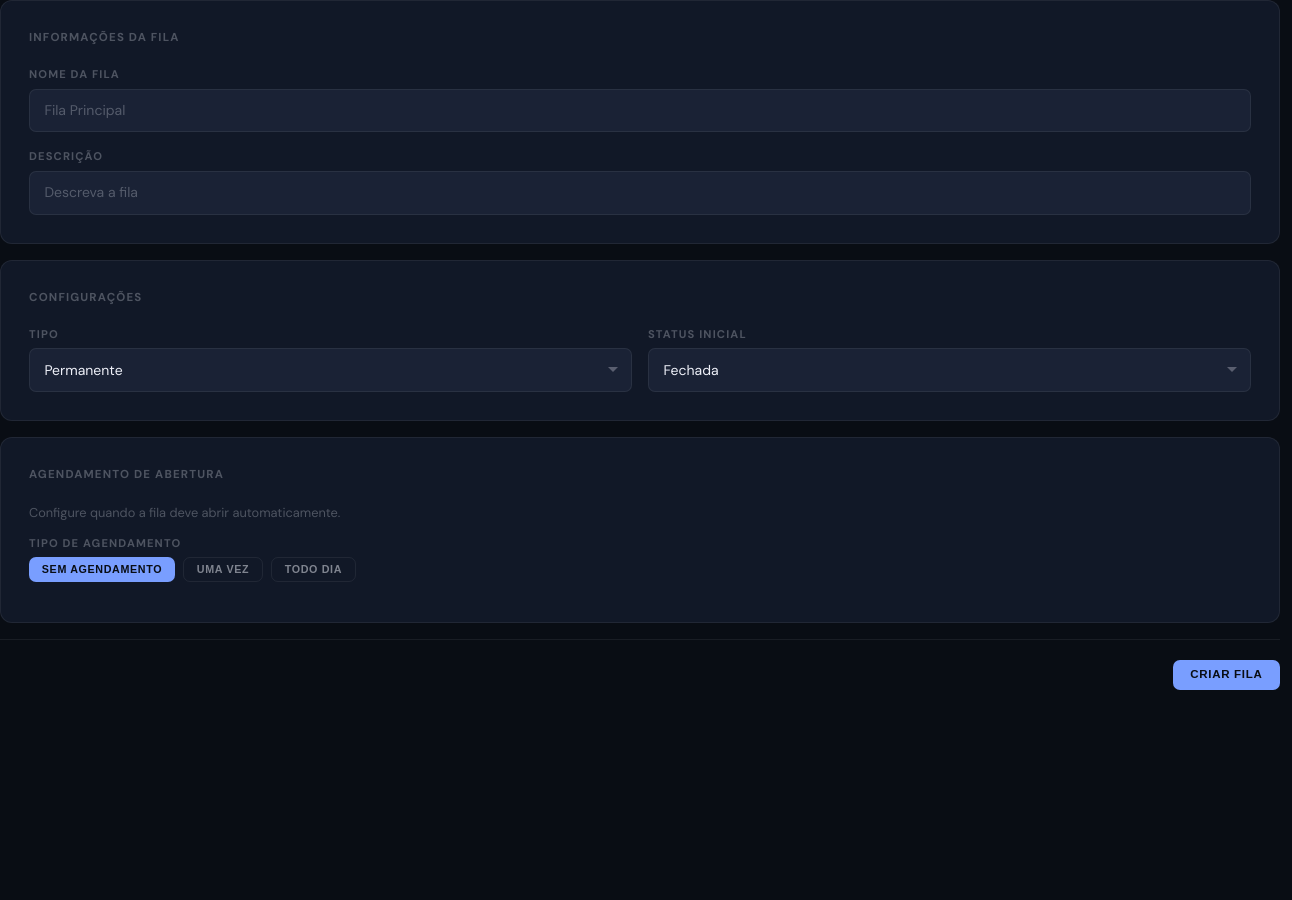
Scenario: CreateQueueForm › shows error message when createQueueSchedule fails
Click the button "Todo dia" at (314, 570), box [271,557,356,582]
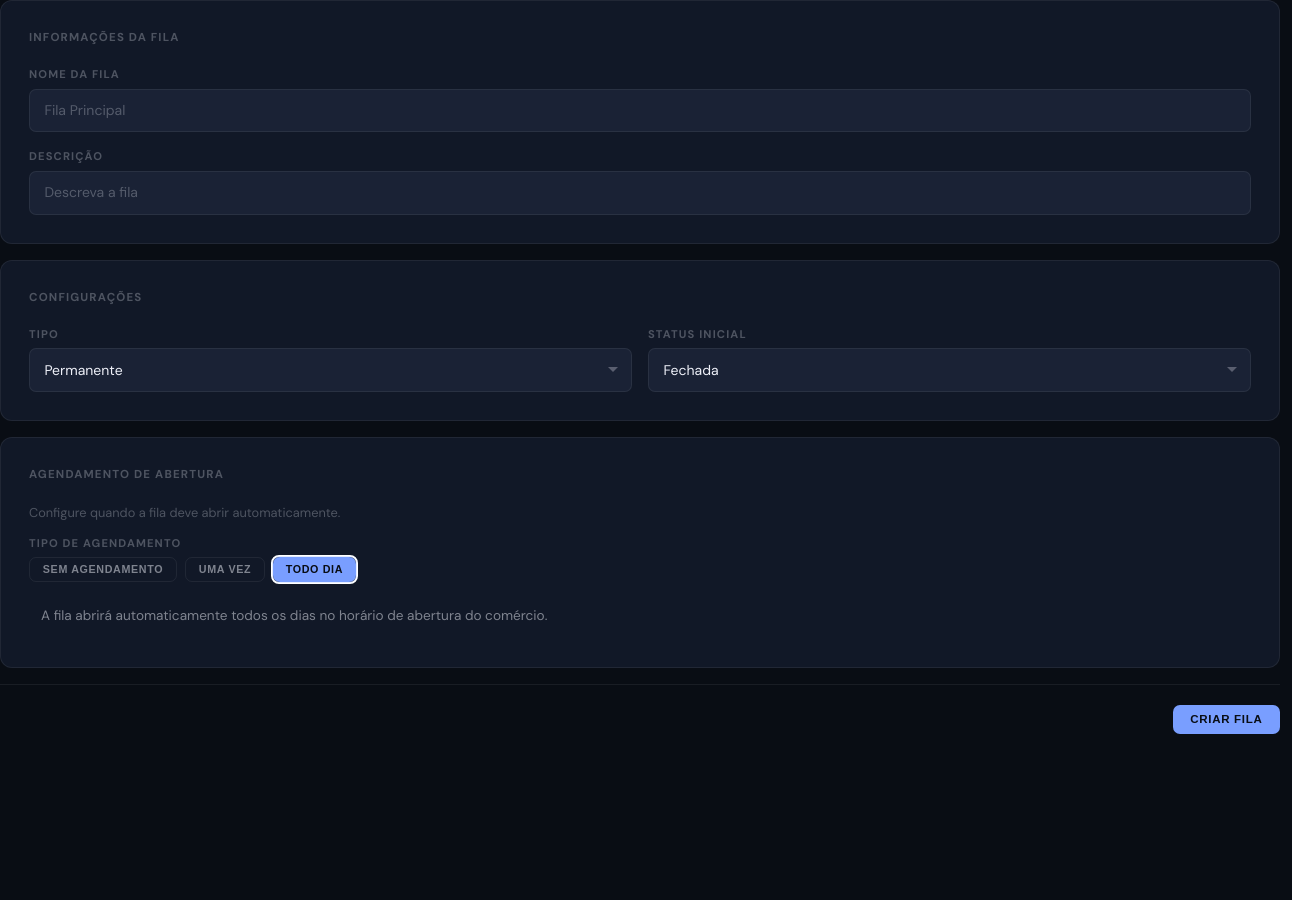
Submit the form named "criar fila"
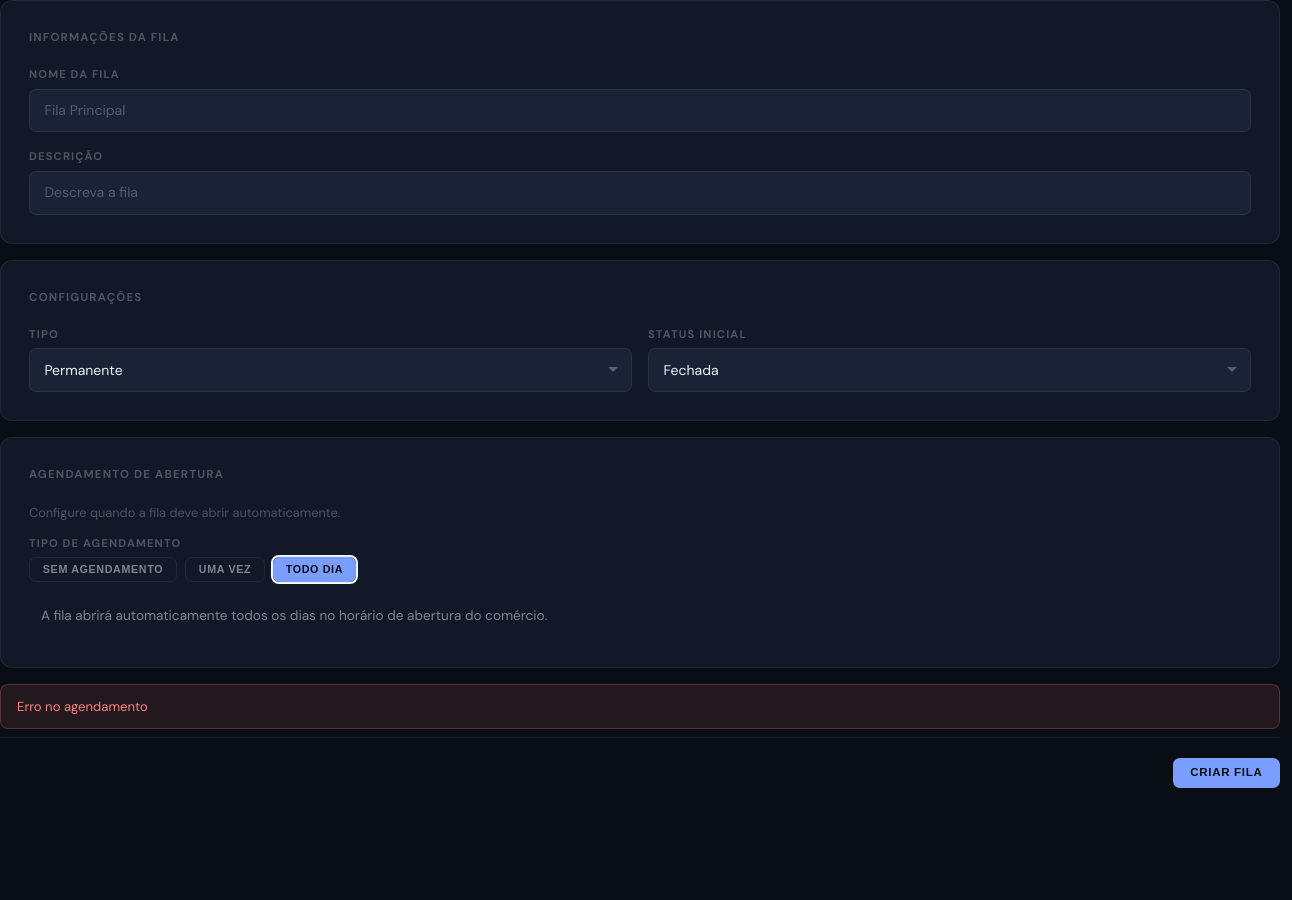
Check: the text "Erro no agendamento" is shown, box [0,684,1280,730]
